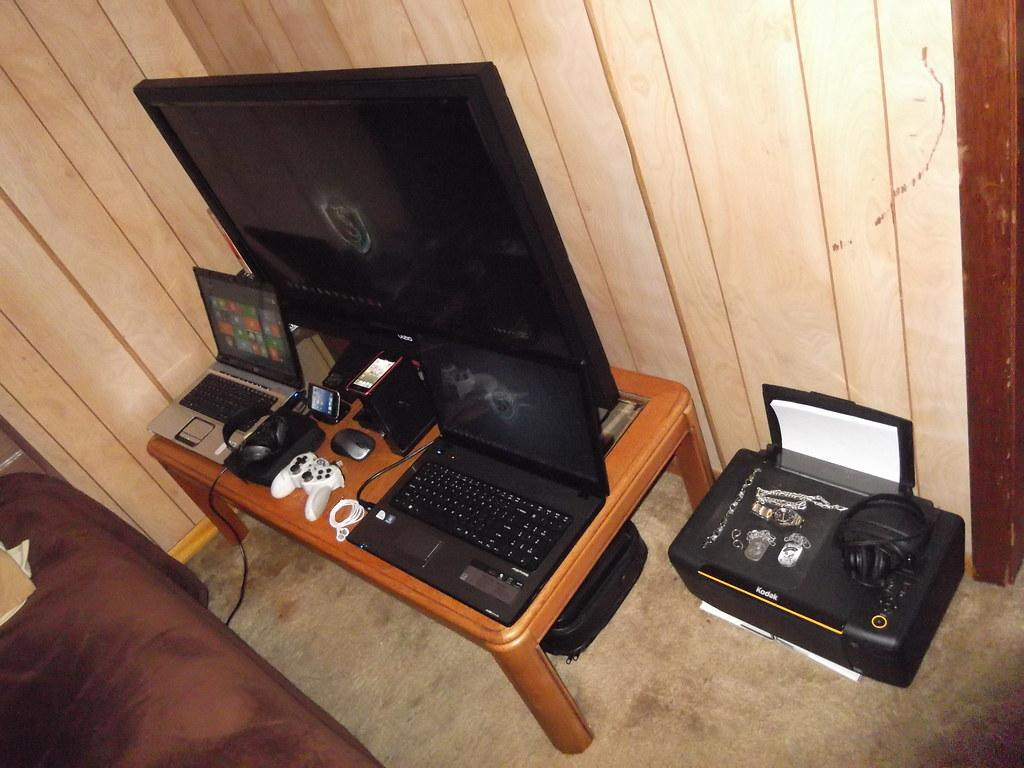computer: (132, 60, 626, 627), (147, 265, 307, 466)
